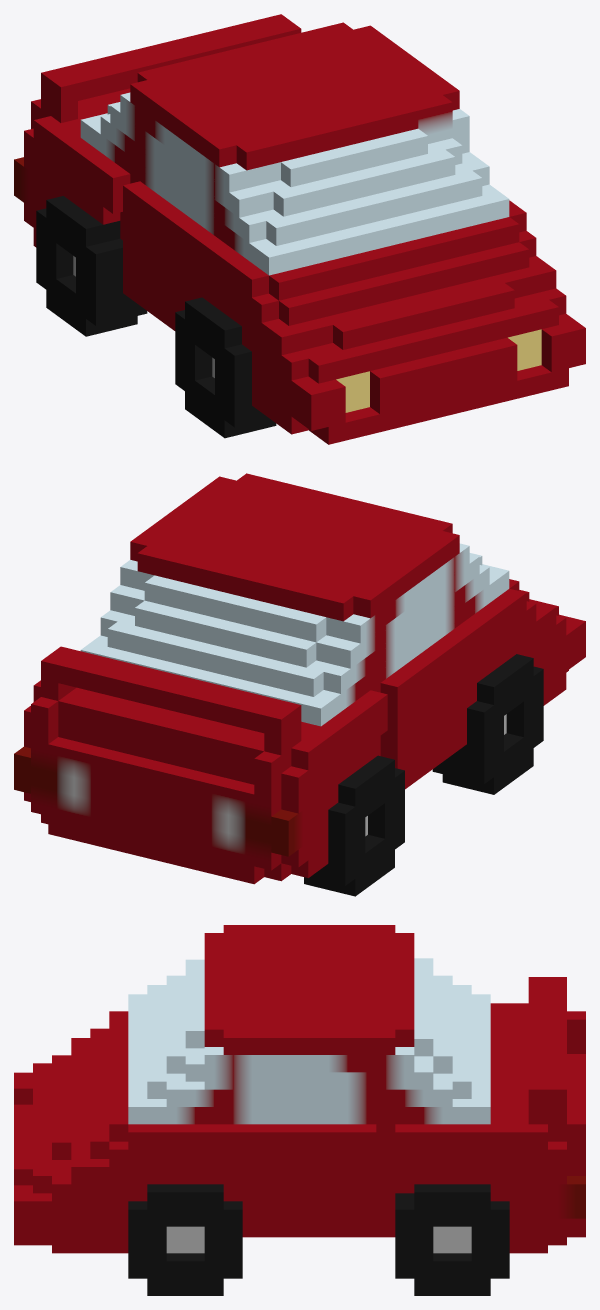
Rendered from Car1.dae.
3 renders of one model, top to bottom at view 1: azimuth 30°, elevation 25°; view 2: azimuth 150°, elevation 25°; view 3: azimuth 270°, elevation 25°, orthographic. The views are drawn at different scales.
Parts seen in each view (by area): view 1: Matrix; view 2: Matrix; view 3: Matrix.
Part boxes in pixels (box(x1,y1,x2,y2)): Matrix: box(14, 14, 585, 444); Matrix: box(14, 473, 585, 896); Matrix: box(14, 925, 585, 1295).
Bounding box in the file's own units: 18 × 14 × 30.
1 material, 1 textured.
